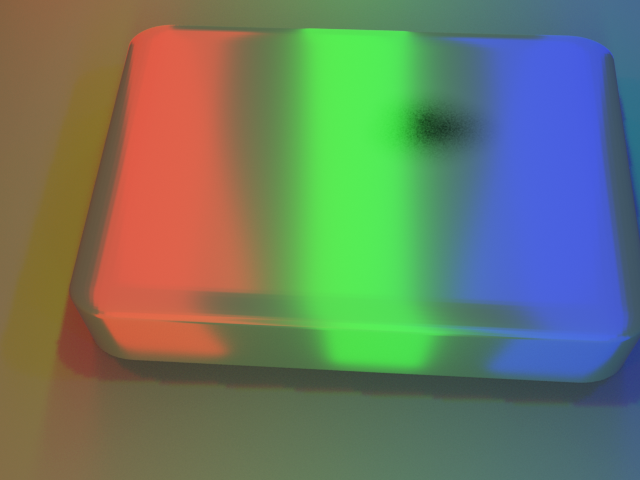stain: (348, 63, 549, 174)
